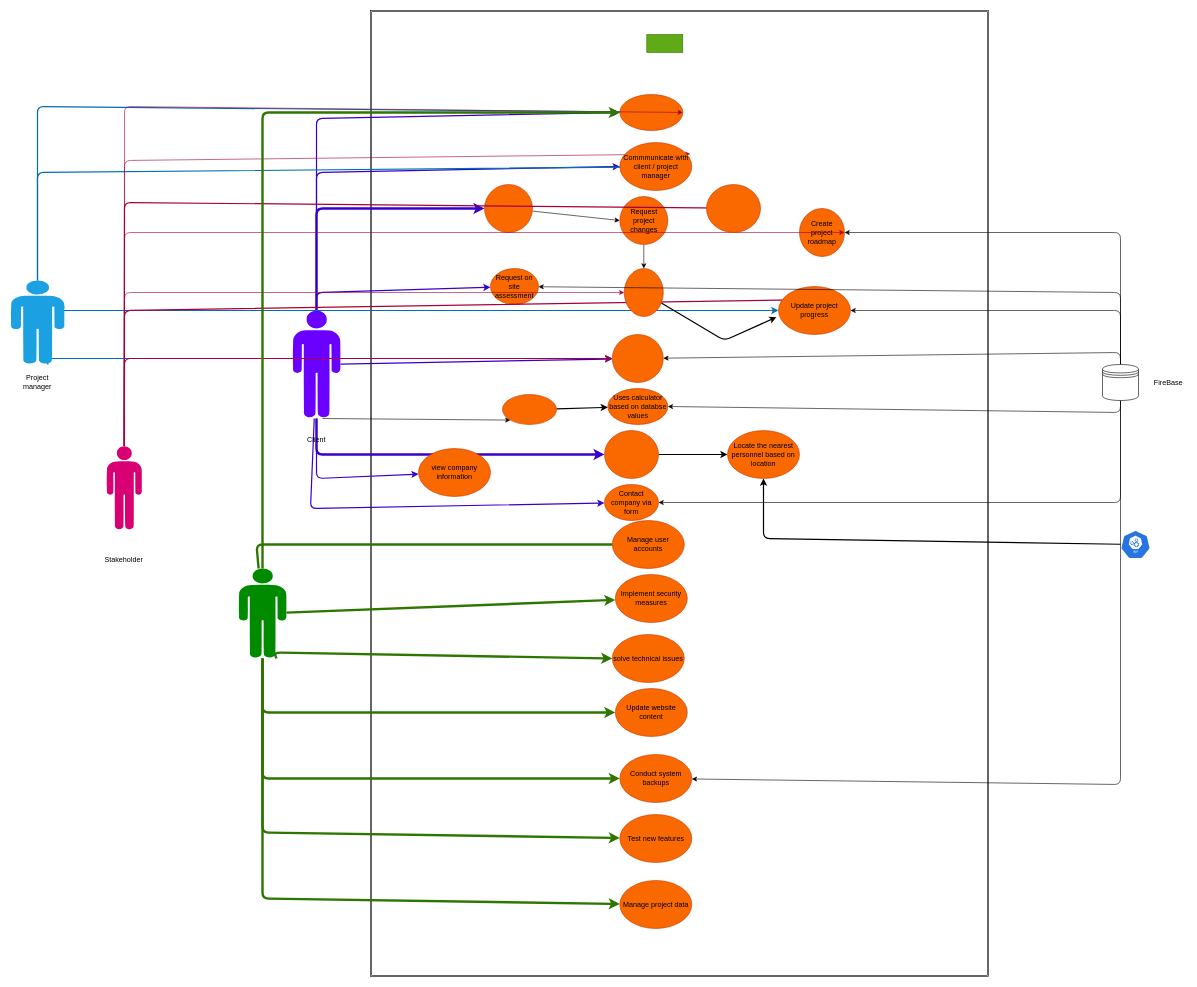
Some shapes in this 1197 by 987 pixel diagram are drawn without their labels. The centre of each missing label's shape, as x and y in pixels:
"Check project progress" belongs at pixel 508 208.
"LienCo Construction" belongs at pixel 664 43.
"Login" belongs at pixel 651 112.
"manage personnel" belongs at pixel 733 208.
"monitor resource allocation" belongs at pixel 637 358.
"Request emergency repair" belongs at pixel 631 454.
"Review requests" belongs at pixel 643 292.
"Use the assessment calculator" belongs at pixel 529 409.
